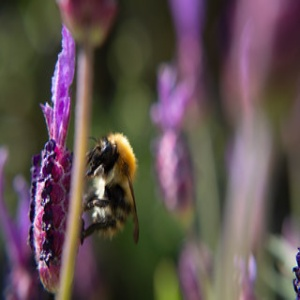bee: (85, 132, 142, 252)
